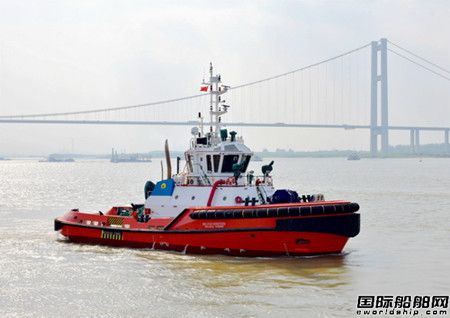otherboat: (51, 67, 367, 256)
